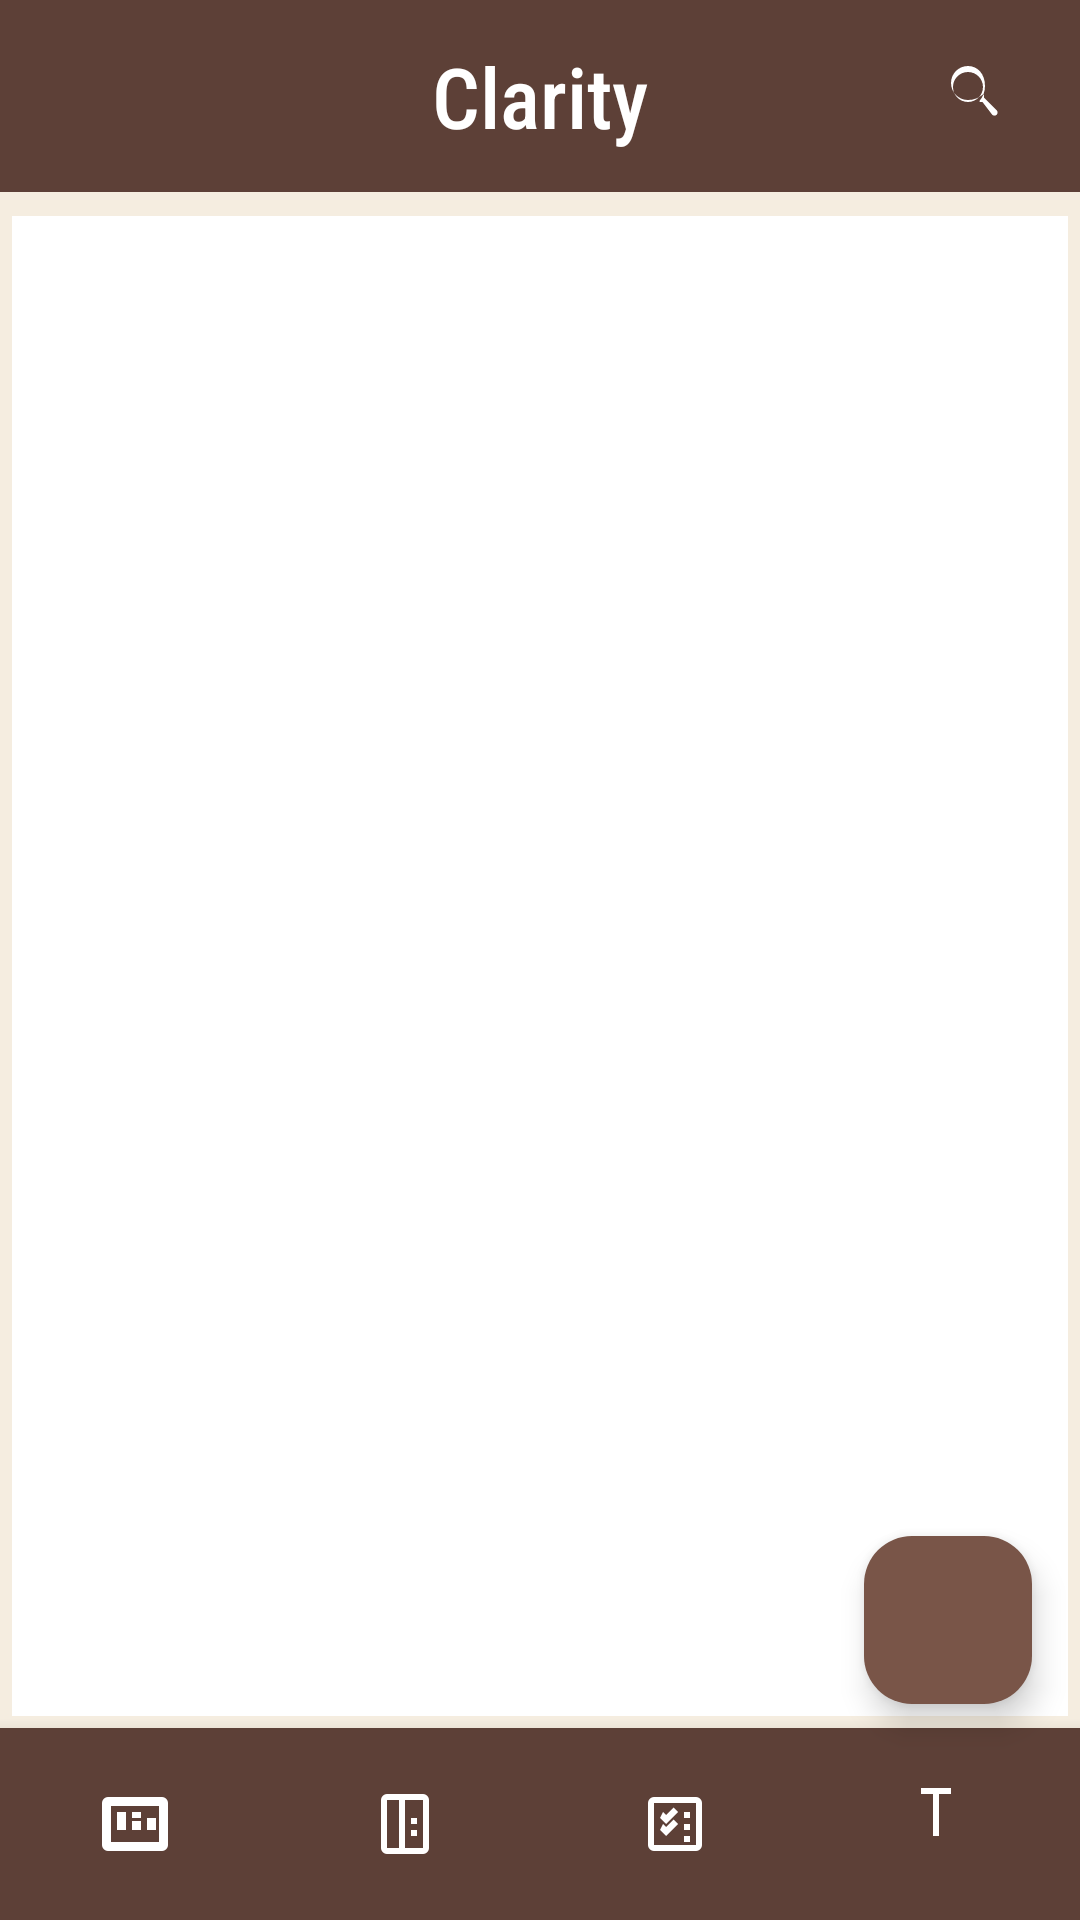

Screen size 1080*1920. Icon name, then its center in pixels as [x,y]:
diary: [405,1824]
search: [974,91]
tasks: [675,1824]
